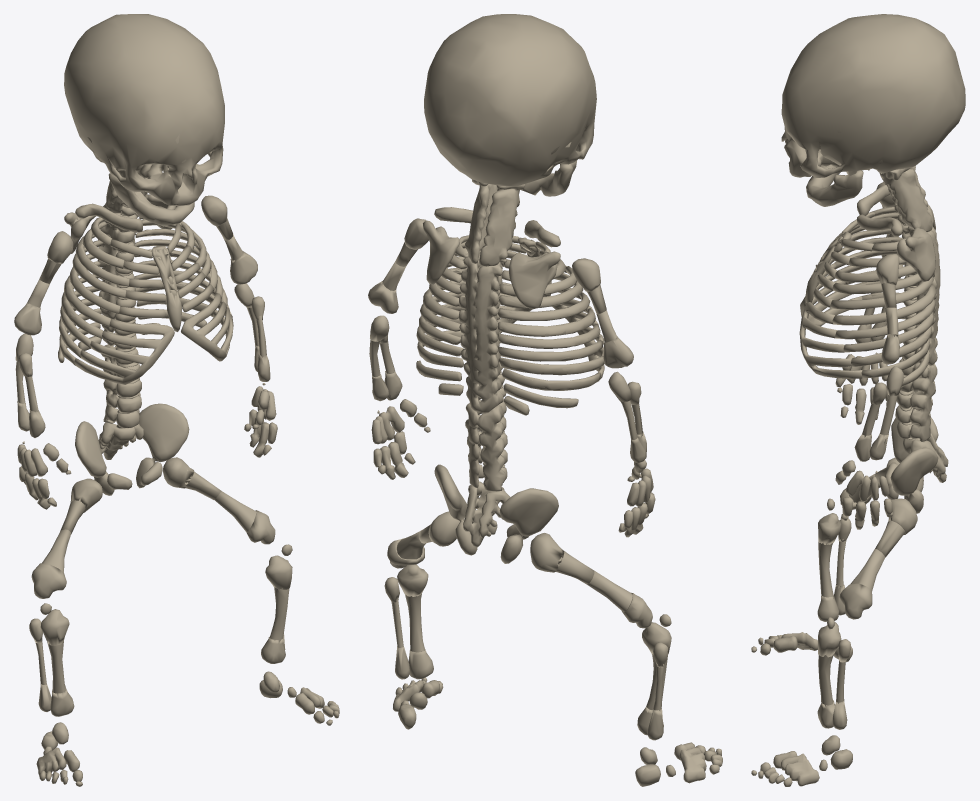
Rendered from pediatric_neonate_female.skeletal.LOD2.glb.
3 views of the same model, side by side, from view 1: azimuth 30°, elevation 25°; view 2: azimuth 150°, elevation 25°; view 3: azimuth 270°, elevation 25° (orthographic). The views are drawn at different scales.
Parts seen in each view (by area): view 1: PEDIATRIC.NEONATE.FEMALE.SKELETAL.CARTILAGE_TRUNK, PEDIATRIC.NEONATE.FEMALE.SKELETAL.CARTILAGE_HEAD, PEDIATRIC.NEONATE.FEMALE.SKELETAL.CARTILAGE_LEGS, PEDIATRIC.NEONATE.FEMALE.SKELETAL.CARTILAGE_ARMS, PEDIATRIC.NEONATE.FEMALE.SKELETAL.RIBS_CORTICAL, PEDIATRIC.NEONATE.FEMALE.SKELETAL.FEMORA_LOWER_CORTICAL, PEDIATRIC.NEONATE.FEMALE.SKELETAL.TIBIAE_CORTICAL, PEDIATRIC.NEONATE.FEMALE.SKELETAL.FEMORA_UPPER_CORTICAL, PEDIATRIC.NEONATE.FEMALE.SKELETAL.HUMERI_LOWER_CORTICAL, PEDIATRIC.NEONATE.FEMALE.SKELETAL.RADII_CORTICAL; view 2: PEDIATRIC.NEONATE.FEMALE.SKELETAL.CARTILAGE_TRUNK, PEDIATRIC.NEONATE.FEMALE.SKELETAL.CARTILAGE_HEAD, PEDIATRIC.NEONATE.FEMALE.SKELETAL.CARTILAGE_LEGS, PEDIATRIC.NEONATE.FEMALE.SKELETAL.CARTILAGE_ARMS, PEDIATRIC.NEONATE.FEMALE.SKELETAL.RIBS_CORTICAL, PEDIATRIC.NEONATE.FEMALE.SKELETAL.FEMORA_LOWER_CORTICAL, PEDIATRIC.NEONATE.FEMALE.SKELETAL.TIBIAE_CORTICAL, PEDIATRIC.NEONATE.FEMALE.SKELETAL.FEMORA_UPPER_CORTICAL, PEDIATRIC.NEONATE.FEMALE.SKELETAL.HUMERI_LOWER_CORTICAL, PEDIATRIC.NEONATE.FEMALE.SKELETAL.FIBULAE_CORTICAL, PEDIATRIC.NEONATE.FEMALE.SKELETAL.ULNAE_CORTICAL, PEDIATRIC.NEONATE.FEMALE.SKELETAL.HUMERI_UPPER_CORTICAL; view 3: PEDIATRIC.NEONATE.FEMALE.SKELETAL.CARTILAGE_HEAD, PEDIATRIC.NEONATE.FEMALE.SKELETAL.CARTILAGE_TRUNK, PEDIATRIC.NEONATE.FEMALE.SKELETAL.CARTILAGE_LEGS, PEDIATRIC.NEONATE.FEMALE.SKELETAL.CARTILAGE_ARMS, PEDIATRIC.NEONATE.FEMALE.SKELETAL.TIBIAE_CORTICAL, PEDIATRIC.NEONATE.FEMALE.SKELETAL.RIBS_CORTICAL, PEDIATRIC.NEONATE.FEMALE.SKELETAL.FEMORA_LOWER_CORTICAL, PEDIATRIC.NEONATE.FEMALE.SKELETAL.FEMORA_UPPER_CORTICAL, PEDIATRIC.NEONATE.FEMALE.SKELETAL.FIBULAE_CORTICAL, PEDIATRIC.NEONATE.FEMALE.SKELETAL.RADII_CORTICAL, PEDIATRIC.NEONATE.FEMALE.SKELETAL.ULNAE_CORTICAL.
Boxes of the visible parts, box(x1,y1,x2,y2) form: PEDIATRIC.NEONATE.FEMALE.SKELETAL.CARTILAGE_TRUNK: box(58, 170, 233, 495); PEDIATRIC.NEONATE.FEMALE.SKELETAL.CARTILAGE_HEAD: box(64, 14, 224, 226); PEDIATRIC.NEONATE.FEMALE.SKELETAL.CARTILAGE_LEGS: box(29, 457, 339, 786); PEDIATRIC.NEONATE.FEMALE.SKELETAL.CARTILAGE_ARMS: box(14, 195, 277, 509); PEDIATRIC.NEONATE.FEMALE.SKELETAL.RIBS_CORTICAL: box(59, 217, 225, 364); PEDIATRIC.NEONATE.FEMALE.SKELETAL.FEMORA_LOWER_CORTICAL: box(42, 491, 256, 572); PEDIATRIC.NEONATE.FEMALE.SKELETAL.TIBIAE_CORTICAL: box(47, 587, 289, 693); PEDIATRIC.NEONATE.FEMALE.SKELETAL.FEMORA_UPPER_CORTICAL: box(60, 469, 221, 534); PEDIATRIC.NEONATE.FEMALE.SKELETAL.HUMERI_LOWER_CORTICAL: box(27, 234, 242, 307); PEDIATRIC.NEONATE.FEMALE.SKELETAL.RADII_CORTICAL: box(24, 300, 266, 411); PEDIATRIC.NEONATE.FEMALE.SKELETAL.CARTILAGE_TRUNK: box(416, 179, 604, 563); PEDIATRIC.NEONATE.FEMALE.SKELETAL.CARTILAGE_HEAD: box(424, 14, 596, 196); PEDIATRIC.NEONATE.FEMALE.SKELETAL.CARTILAGE_LEGS: box(384, 511, 722, 786); PEDIATRIC.NEONATE.FEMALE.SKELETAL.CARTILAGE_ARMS: box(368, 218, 655, 537); PEDIATRIC.NEONATE.FEMALE.SKELETAL.RIBS_CORTICAL: box(416, 237, 603, 415); PEDIATRIC.NEONATE.FEMALE.SKELETAL.FEMORA_LOWER_CORTICAL: box(397, 530, 632, 612); PEDIATRIC.NEONATE.FEMALE.SKELETAL.TIBIAE_CORTICAL: box(405, 593, 667, 710); PEDIATRIC.NEONATE.FEMALE.SKELETAL.FEMORA_UPPER_CORTICAL: box(419, 524, 594, 584); PEDIATRIC.NEONATE.FEMALE.SKELETAL.HUMERI_LOWER_CORTICAL: box(382, 261, 617, 342); PEDIATRIC.NEONATE.FEMALE.SKELETAL.FIBULAE_CORTICAL: box(391, 600, 663, 711); PEDIATRIC.NEONATE.FEMALE.SKELETAL.ULNAE_CORTICAL: box(369, 340, 637, 439); PEDIATRIC.NEONATE.FEMALE.SKELETAL.HUMERI_UPPER_CORTICAL: box(395, 242, 606, 314); PEDIATRIC.NEONATE.FEMALE.SKELETAL.CARTILAGE_HEAD: box(781, 14, 965, 206); PEDIATRIC.NEONATE.FEMALE.SKELETAL.CARTILAGE_TRUNK: box(799, 166, 948, 513); PEDIATRIC.NEONATE.FEMALE.SKELETAL.CARTILAGE_LEGS: box(751, 457, 917, 786); PEDIATRIC.NEONATE.FEMALE.SKELETAL.CARTILAGE_ARMS: box(835, 182, 903, 529); PEDIATRIC.NEONATE.FEMALE.SKELETAL.TIBIAE_CORTICAL: box(818, 542, 833, 706); PEDIATRIC.NEONATE.FEMALE.SKELETAL.RIBS_CORTICAL: box(830, 207, 934, 380); PEDIATRIC.NEONATE.FEMALE.SKELETAL.FEMORA_LOWER_CORTICAL: box(849, 473, 885, 591); PEDIATRIC.NEONATE.FEMALE.SKELETAL.FEMORA_UPPER_CORTICAL: box(874, 467, 904, 557); PEDIATRIC.NEONATE.FEMALE.SKELETAL.FIBULAE_CORTICAL: box(836, 539, 846, 703); PEDIATRIC.NEONATE.FEMALE.SKELETAL.RADII_CORTICAL: box(862, 292, 880, 437); PEDIATRIC.NEONATE.FEMALE.SKELETAL.ULNAE_CORTICAL: box(880, 306, 897, 435).
Size of the model in its own units: 0.2148 by 0.4769 by 0.1331.
